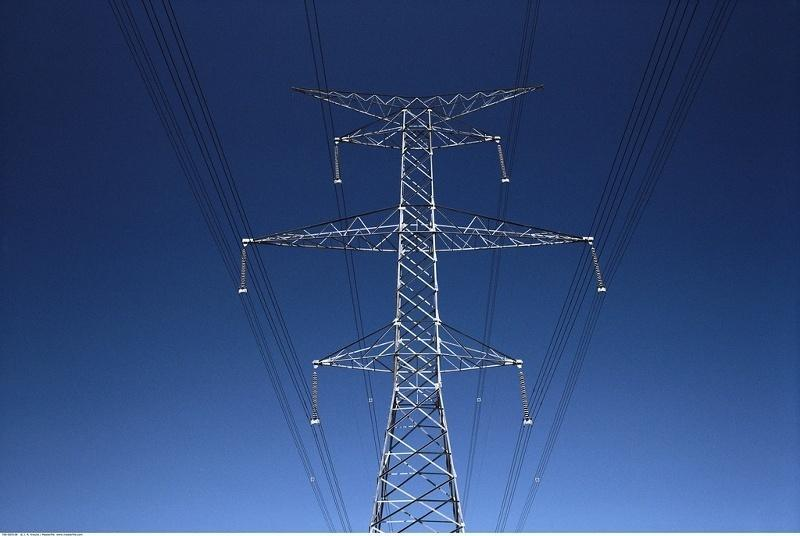power_tower: (236, 85, 608, 536)
